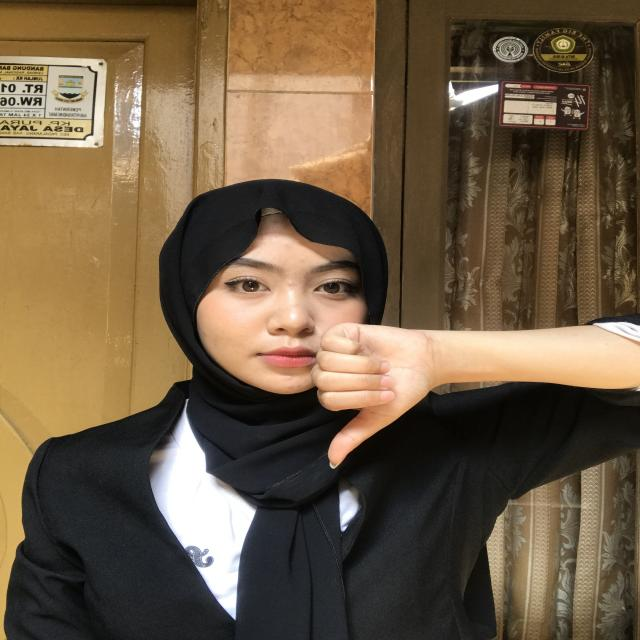sedih: (298, 309, 444, 506)
